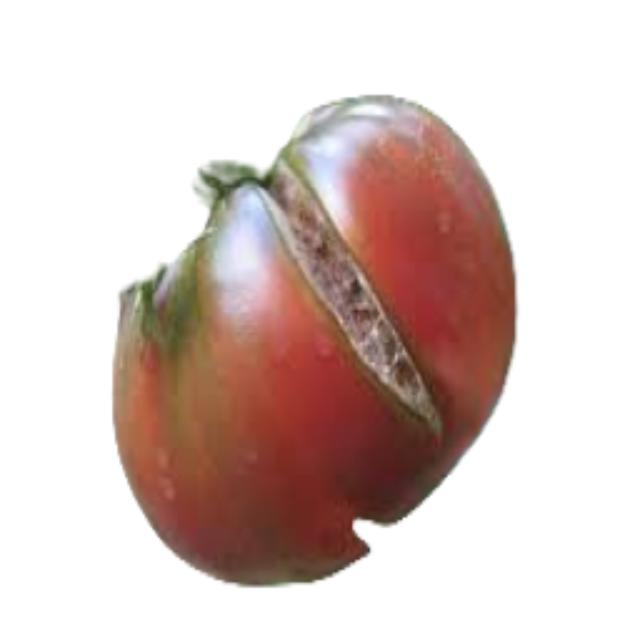defect: (108, 92, 523, 591)
